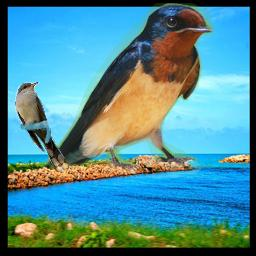Cuckoo: (15, 82, 69, 172)
Swallow: (42, 3, 213, 174)
